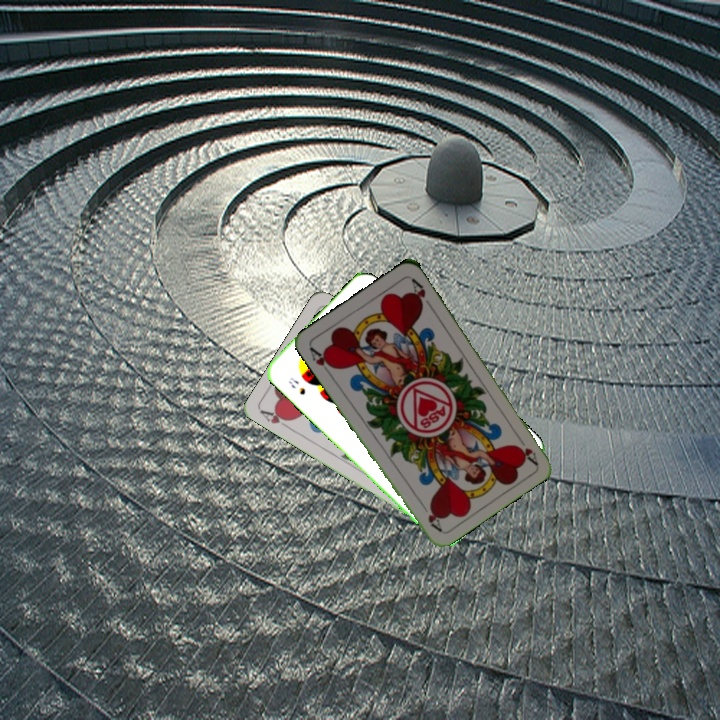HA: (305, 343, 337, 378), (257, 406, 294, 433), (514, 430, 540, 467)
S8: (284, 373, 308, 398)
